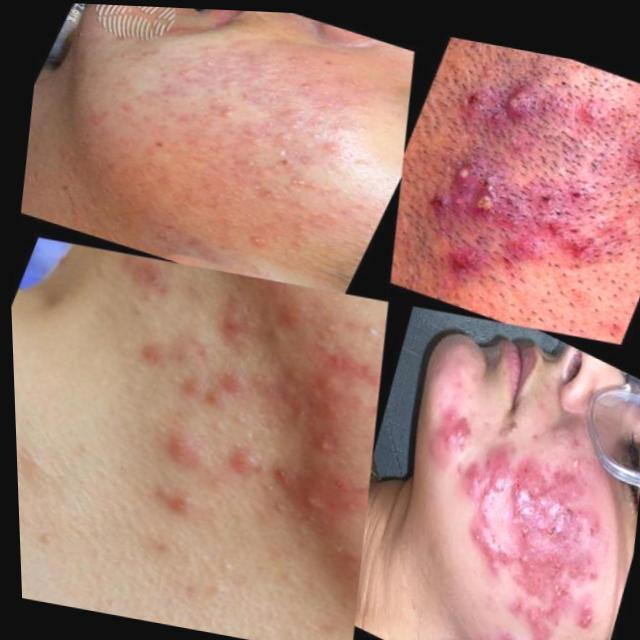cyst: (508, 90, 532, 113), (482, 178, 498, 210)
